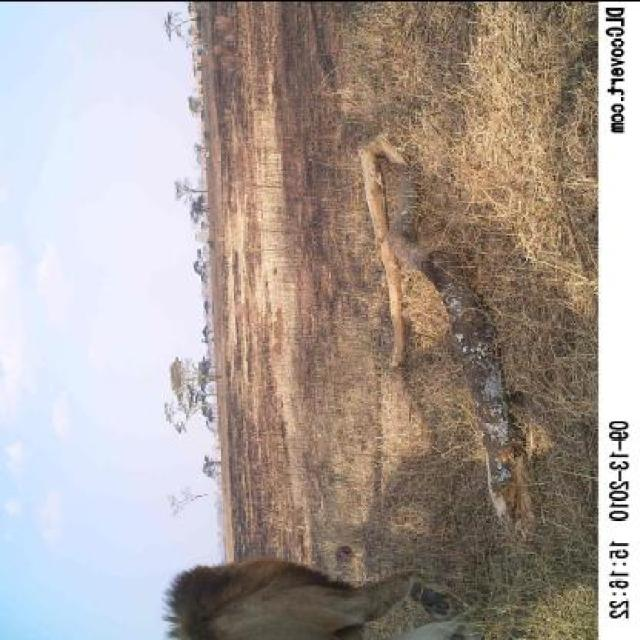Lion: (128, 502, 524, 638)
